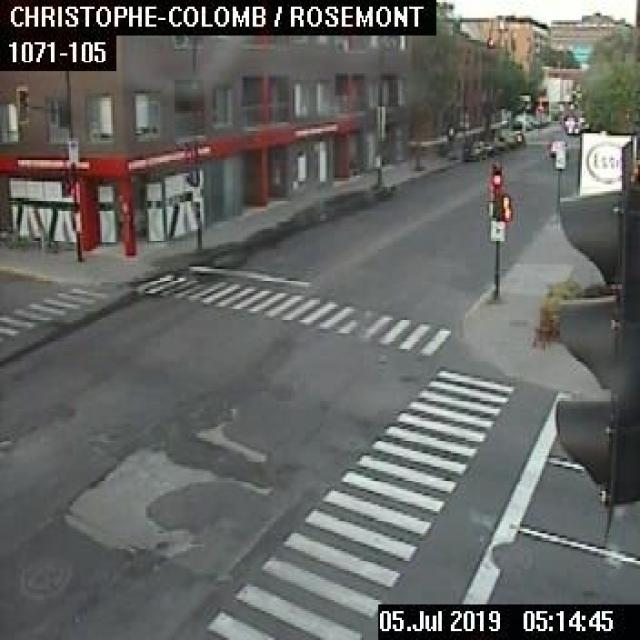vehicle: (461, 140, 493, 160), (546, 137, 566, 155), (564, 116, 580, 136)
